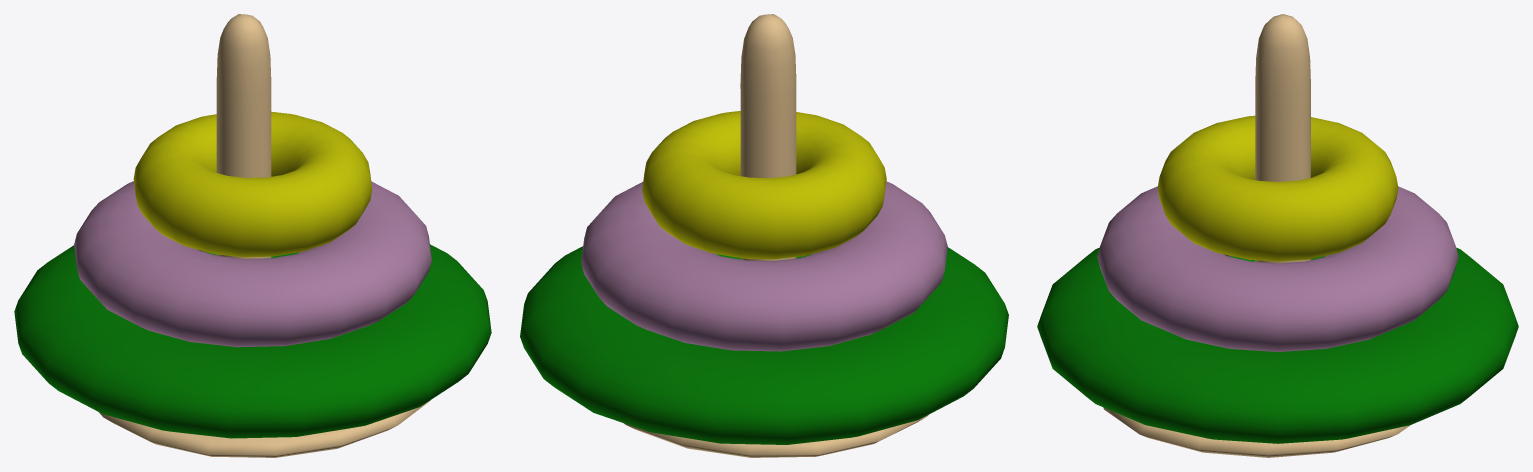
The model's file is Toy1.fbx.
3 views of the same model, side by side, from view 1: azimuth 30°, elevation 25°; view 2: azimuth 150°, elevation 25°; view 3: azimuth 270°, elevation 25° (orthographic). The views are drawn at different scales.
Visible parts, largest first — view 1: polySurface69, polySurface70, polySurface71, polySurface68, polySurface67; view 2: polySurface69, polySurface70, polySurface71, polySurface68, polySurface67; view 3: polySurface69, polySurface70, polySurface71, polySurface68, polySurface67.
Boxes of the visible parts, bbox=[...] form: polySurface69: bbox=[14, 244, 491, 438]; polySurface70: bbox=[74, 181, 431, 347]; polySurface71: bbox=[133, 111, 372, 257]; polySurface68: bbox=[216, 14, 271, 258]; polySurface67: bbox=[99, 400, 430, 457]; polySurface69: bbox=[520, 246, 1008, 444]; polySurface70: bbox=[581, 181, 947, 351]; polySurface71: bbox=[642, 111, 886, 259]; polySurface68: bbox=[740, 14, 796, 260]; polySurface67: bbox=[624, 414, 928, 457]; polySurface69: bbox=[1037, 247, 1518, 443]; polySurface70: bbox=[1097, 186, 1458, 351]; polySurface71: bbox=[1157, 115, 1398, 261]; polySurface68: bbox=[1255, 14, 1310, 263]; polySurface67: bbox=[1103, 407, 1410, 457].
Bounding box in the file's own units: 6 × 5.27 × 6.
